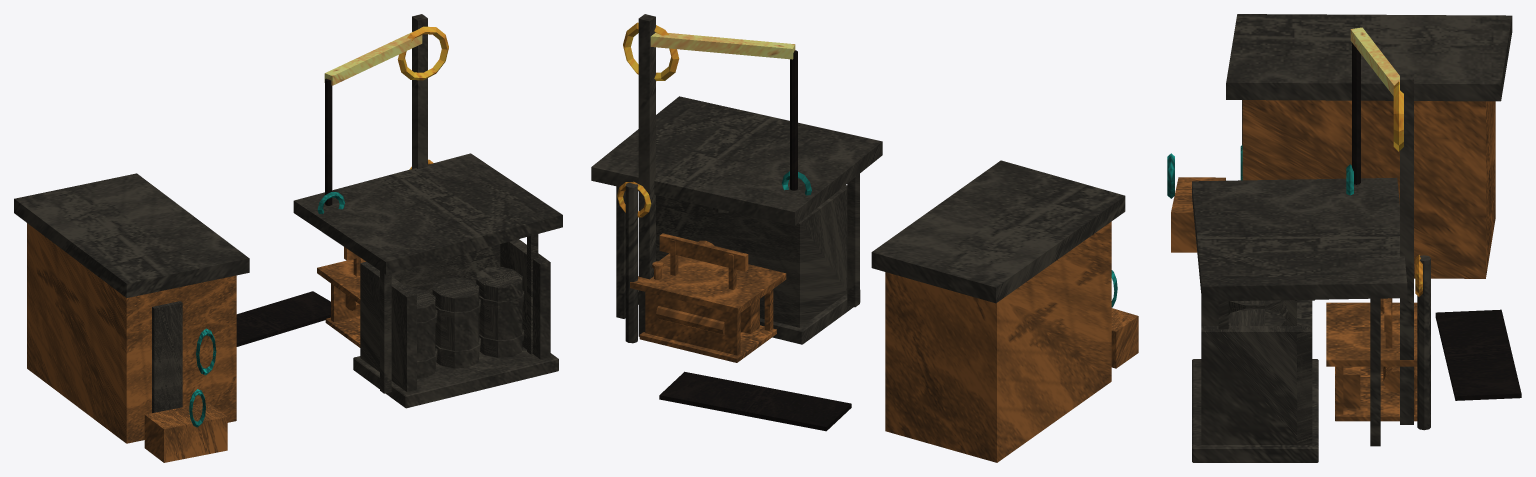
File: county-camp-rig.glb
3 views of the same model, side by side, from view 1: azimuth 30°, elevation 25°; view 2: azimuth 150°, elevation 25°; view 3: azimuth 270°, elevation 25° (orthographic). The views are drawn at different scales.
Parts seen in each view (by area): view 1: county-camp-rig; view 2: county-camp-rig; view 3: county-camp-rig.
Part boxes in pixels (<box>): county-camp-rig: <box>14,14,562,462</box>; county-camp-rig: <box>591,14,1138,462</box>; county-camp-rig: <box>1167,14,1521,462</box>.
Bounding box in the file's own units: 9.18 × 6.25 × 5.6.
Materials: 1 (1 with a texture image).
